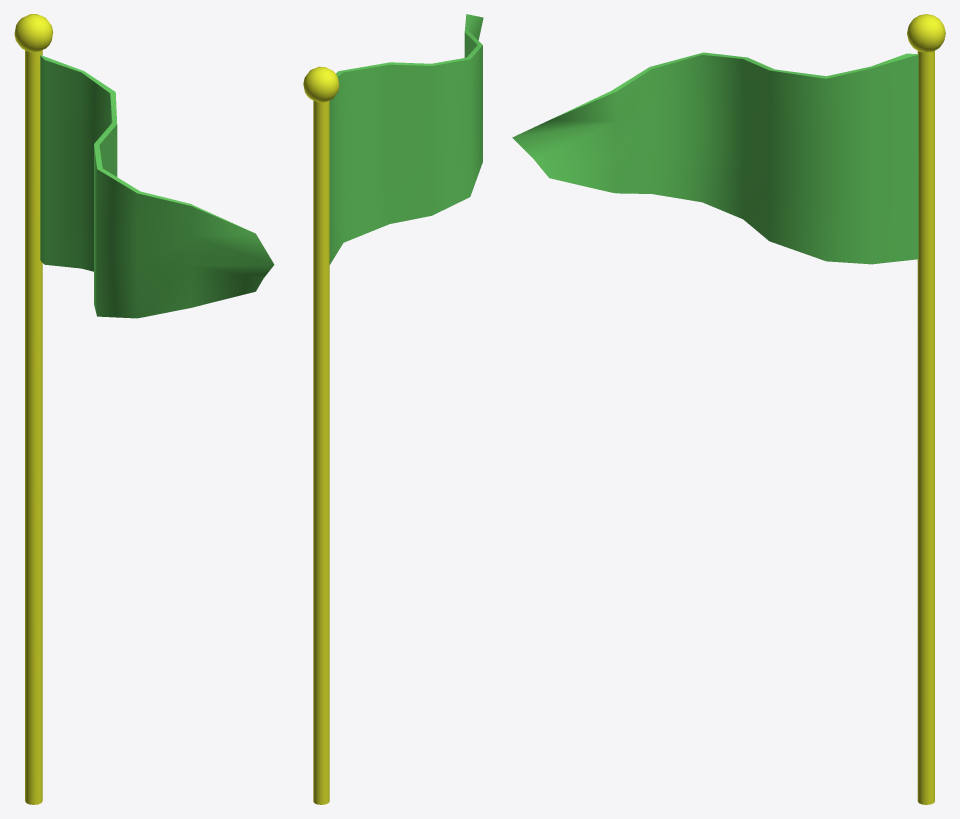
Rendered from Flag.fbx.
3 renders of one model, left to right at view 1: azimuth 30°, elevation 25°; view 2: azimuth 150°, elevation 25°; view 3: azimuth 270°, elevation 25°, orthographic. The views are drawn at different scales.
Parts seen in each view (by area): view 1: Flag; view 2: Flag; view 3: Flag.
Boxes of the visible parts, left/top/right/bottom form: Flag: left=14, top=14, right=274, bottom=804; Flag: left=303, top=14, right=483, bottom=804; Flag: left=512, top=14, right=945, bottom=804.
Size of the model in its own units: 21.19 by 195 by 97.65.
